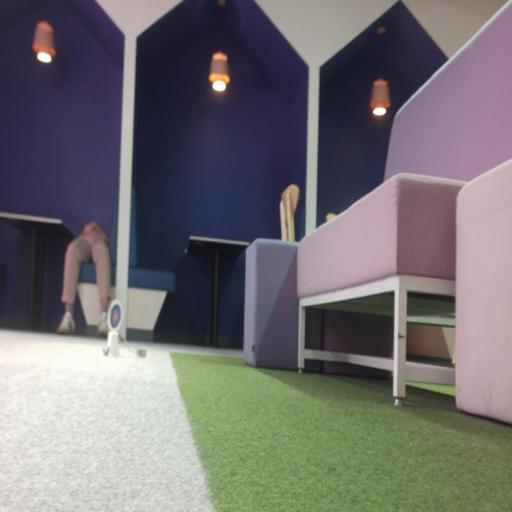target: (108, 299, 122, 333)
